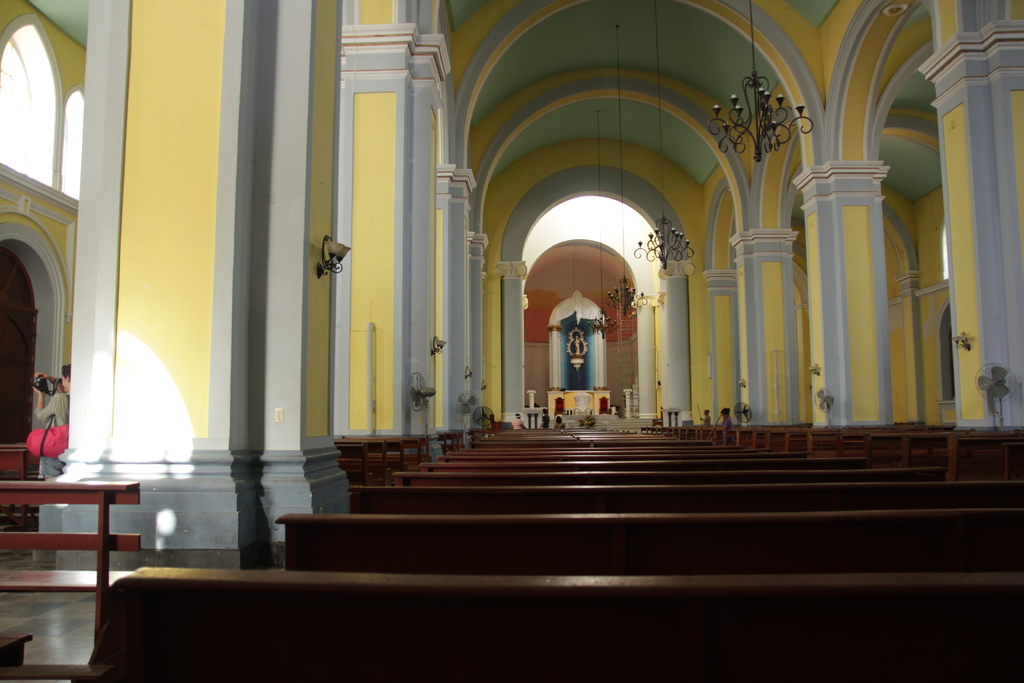Window: (7, 38, 86, 256), (63, 89, 90, 197)
